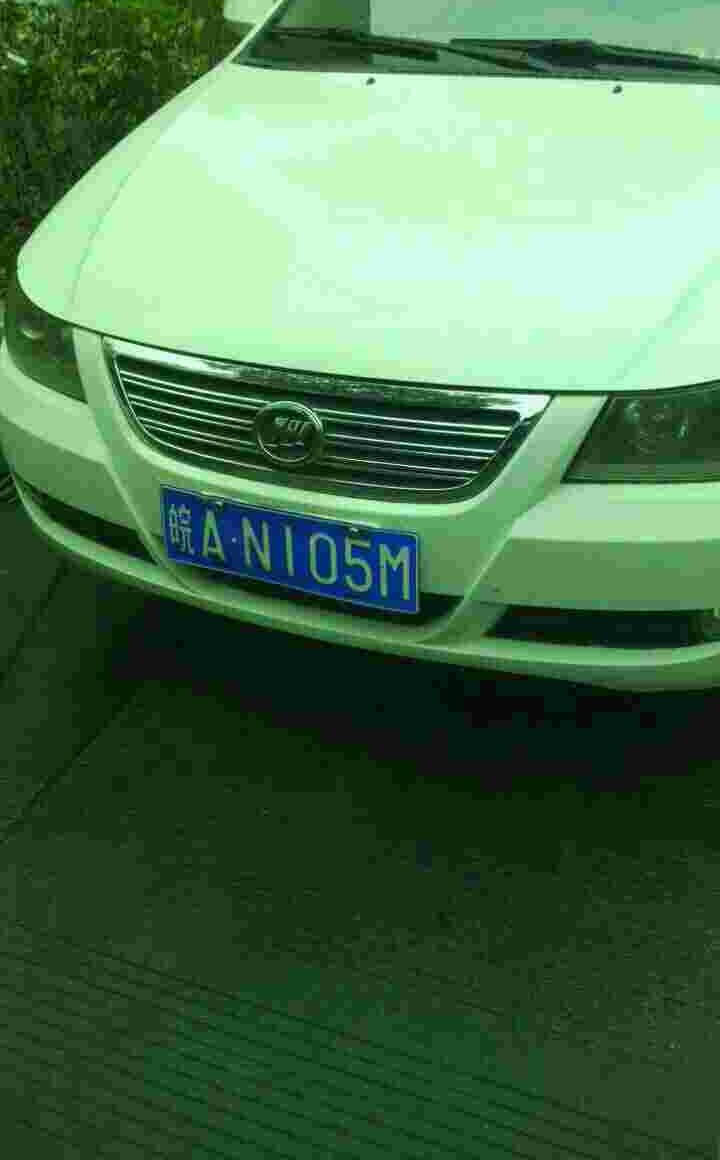license_plate: (159, 481, 423, 622)
